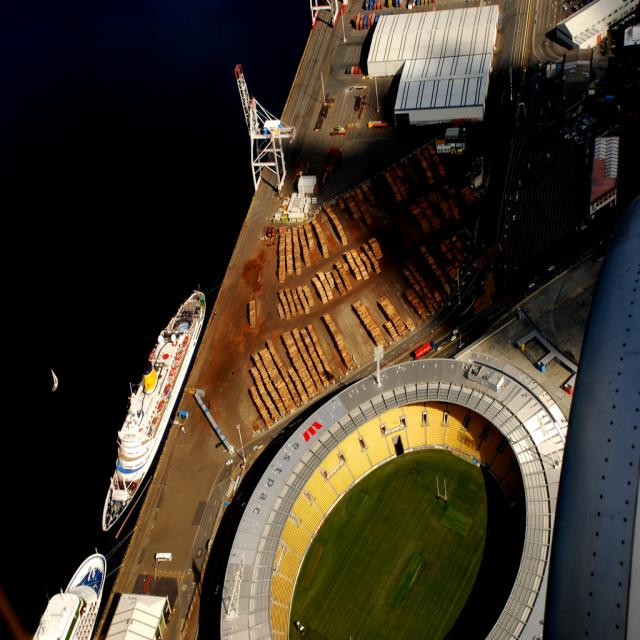Boat: (102, 284, 202, 536), (31, 548, 109, 639)
